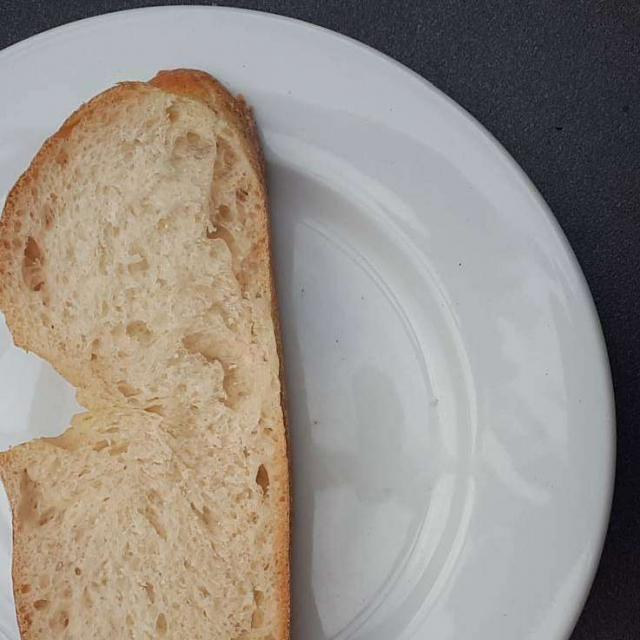bread: (10, 80, 287, 633)
